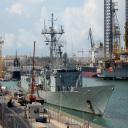Fragata: (19, 9, 116, 121)
